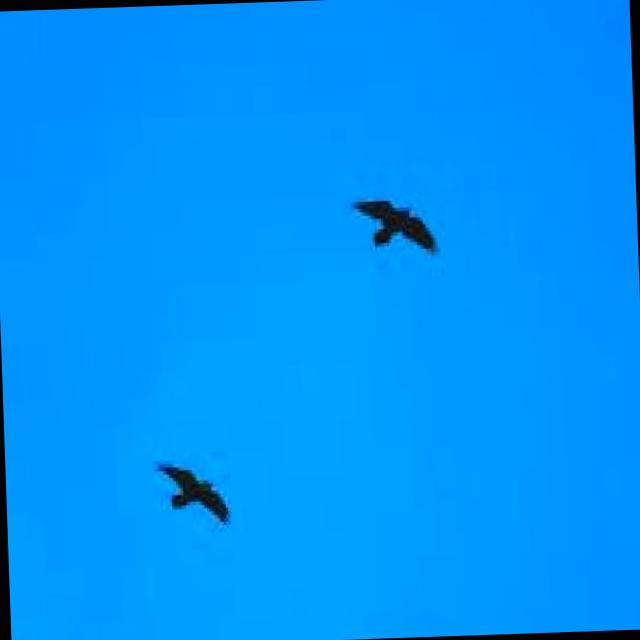bird: (349, 190, 439, 254), (155, 460, 224, 533)
